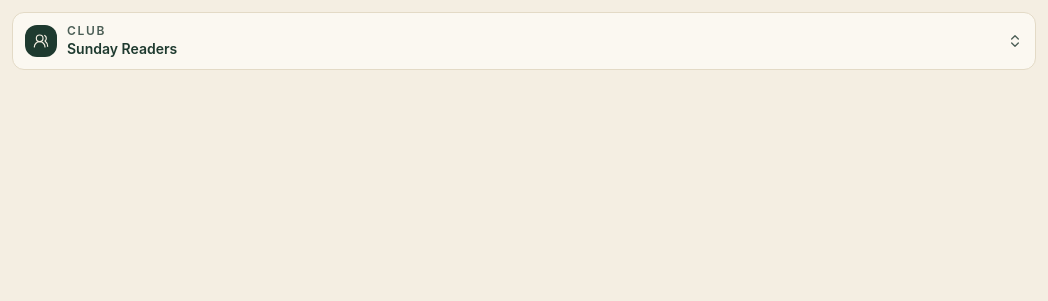
Test: ClubSwitcher › lists the member's clubs with roles, links to each, and closes on Escape
Click the button "Club Sunday Readers": {"x": 41, "y": 41} x1=12 y1=12 x2=1036 y2=70
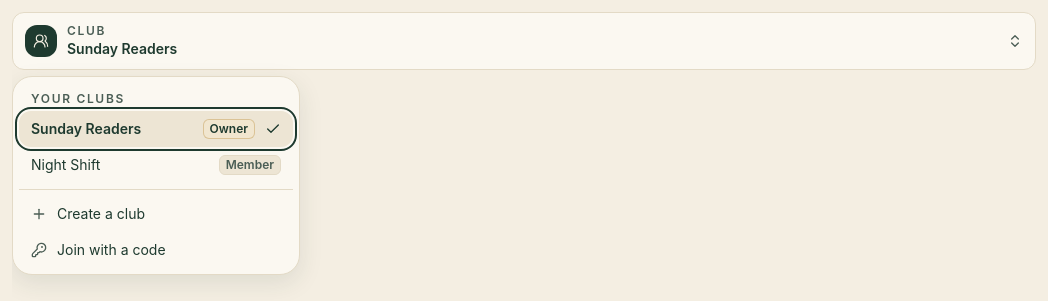
Expected: the menu items read "Sunday ReadersOwner", "Night ShiftMember", "Create a club", "Join with a code", in this order, x1=19 y1=111 x2=293 y2=147; x1=31 y1=155 x2=281 y2=175; x1=31 y1=205 x2=145 y2=222; x1=19 y1=232 x2=293 y2=268
Press Escape
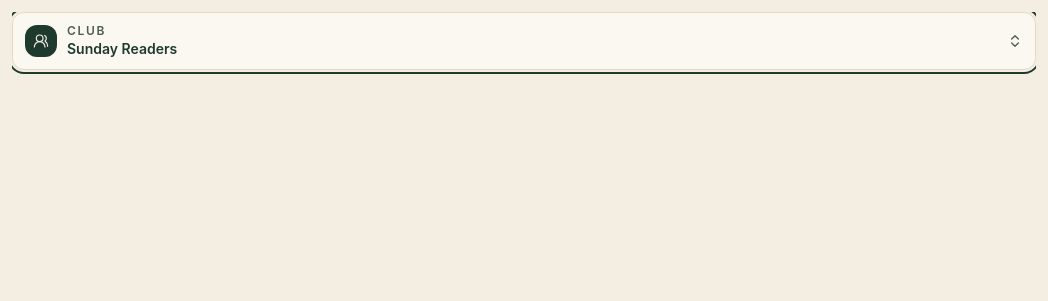
Expected: the text "Your clubs" is gone
